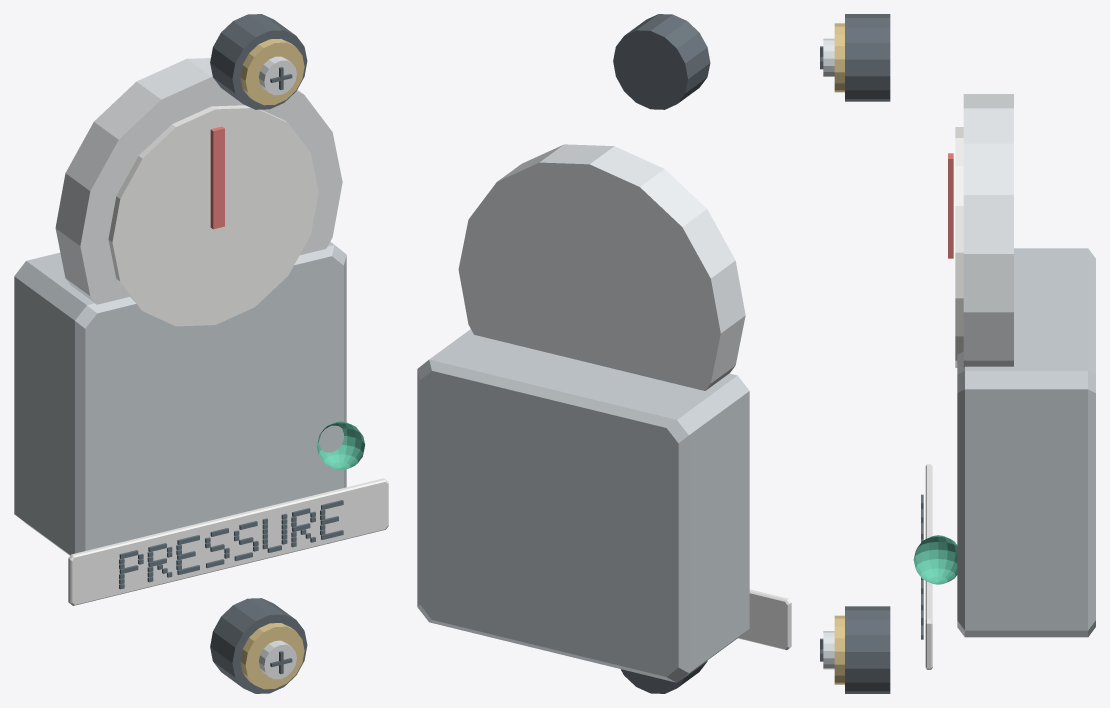
The model's file is pressureSwitch.glb.
The picture shows the model from 3 angles, left to right: view 1: azimuth 30°, elevation 25°; view 2: azimuth 150°, elevation 25°; view 3: azimuth 270°, elevation 25°; orthographic projection.
Parts seen in each view (by area): view 1: pressureSwitch-preview; view 2: pressureSwitch-preview; view 3: pressureSwitch-preview.
Part boxes in pixels (x1,y1,x2,y2): pressureSwitch-preview: (14, 14, 388, 693); pressureSwitch-preview: (417, 14, 791, 693); pressureSwitch-preview: (820, 14, 1095, 693).
Size of the model in its own units: 1.33 by 2.65 by 0.9845.
